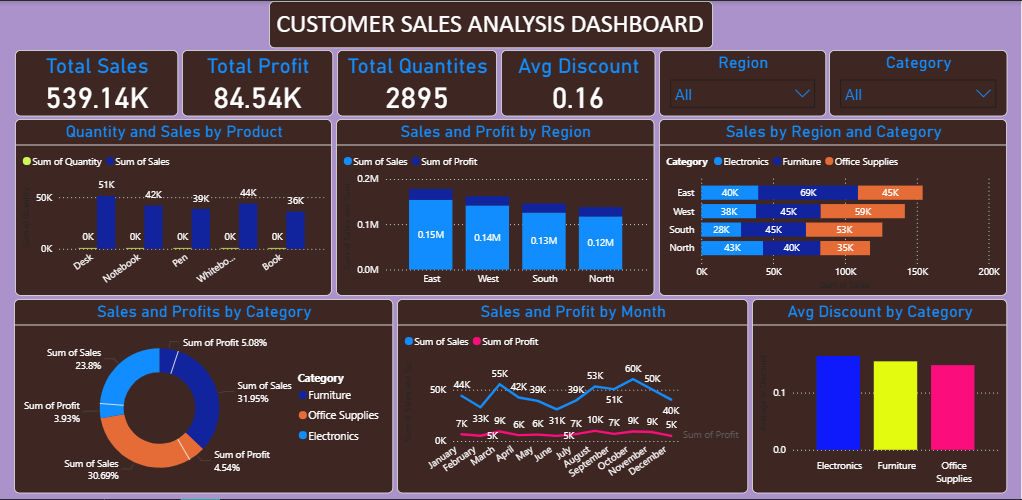

What the dashboard file says about the page in this screenshot:
{"tool":"powerbi","page":{"name":"Page 1","canvas":[1280,720],"ordinal":0},"visuals":[{"type":"card","title":"Avg Discount","fields":{"Values":["Avg(Clean_customer_sales_data.Discount)"]},"box":[630,63.8,192.5,82.5],"z":1},{"type":"card","title":"Total Sales","fields":{"Values":["Sum(Clean_customer_sales_data.Sales)"]},"box":[22.5,63.8,203.8,82.5],"z":2},{"type":"card","title":"Total Profit","fields":{"Values":["Sum(Clean_customer_sales_data.Profit)"]},"box":[231.2,63.8,188.8,82.5],"z":3},{"type":"card","title":"Total Quantites","fields":{"Values":["Sum(Clean_customer_sales_data.Quantity)"]},"box":[425,63.8,200,82.5],"z":4},{"type":"lineChart","title":"Sales and Profit by Month","fields":{"Category":["Clean_customer_sales_data.Date.Variation.Date Hierarchy.Month"],"Y":["Sum(Clean_customer_sales_data.Sales)","Sum(Clean_customer_sales_data.Profit)"]},"box":[500,375,438.8,242.5],"z":5},{"type":"columnChart","title":"Sales and Profit by Region","fields":{"Category":["Clean_customer_sales_data.Region"],"Y":["Sum(Clean_customer_sales_data.Sales)","Sum(Clean_customer_sales_data.Profit)"]},"box":[423.8,150,397.5,221.2],"z":6},{"type":"donutChart","title":"Sales and Profits by Category","fields":{"Category":["Clean_customer_sales_data.Category"],"Y":["Sum(Clean_customer_sales_data.Profit)","Sum(Clean_customer_sales_data.Sales)"]},"box":[21.2,375,473.8,242.5],"z":7},{"type":"clusteredColumnChart","title":"Quantity and Sales by Product","fields":{"Category":["Clean_customer_sales_data.Product"],"Y":["Sum(Clean_customer_sales_data.Quantity)","Sum(Clean_customer_sales_data.Sales)"]},"box":[22.5,150,396.2,221.2],"z":8},{"type":"lineClusteredColumnComboChart","title":"Avg Discount by Category","fields":{"Category":["Clean_customer_sales_data.Category"],"Y":["Avg(Clean_customer_sales_data.Discount)"]},"box":[943.8,375,318.8,242.5],"z":9},{"type":"barChart","title":"Sales by Region and Category","fields":{"Category":["Clean_customer_sales_data.Region"],"Series":["Clean_customer_sales_data.Category"],"Y":["Sum(Clean_customer_sales_data.Sales)"]},"box":[827.5,150,435,221.2],"z":10},{"type":"textbox","box":[340,2.5,555,58.8],"z":11},{"type":"slicer","title":"Region","fields":{"Values":["Clean_customer_sales_data.Region"]},"box":[827.5,63.8,208.8,82.5],"z":12},{"type":"slicer","title":"Category","fields":{"Values":["Clean_customer_sales_data.Category"]},"box":[1040,63.8,222.5,82.5],"z":13}]}

Visuals, with their boxes on the page's 1280x720 design canvas (x1, y1, x2, y2). These are canvas units, not pixel positions in the 1022x500 screenshot, which may show the page scaled, cropped or inside an application window:
"Avg Discount" card: region(630, 64, 822, 146)
"Total Sales" card: region(22, 64, 226, 146)
"Total Profit" card: region(231, 64, 420, 146)
"Total Quantites" card: region(425, 64, 625, 146)
"Sales and Profit by Month" lineChart: region(500, 375, 939, 618)
"Sales and Profit by Region" columnChart: region(424, 150, 821, 371)
"Sales and Profits by Category" donutChart: region(21, 375, 495, 618)
"Quantity and Sales by Product" clusteredColumnChart: region(22, 150, 419, 371)
"Avg Discount by Category" lineClusteredColumnComboChart: region(944, 375, 1263, 618)
"Sales by Region and Category" barChart: region(828, 150, 1262, 371)
textbox: region(340, 2, 895, 61)
"Region" slicer: region(828, 64, 1036, 146)
"Category" slicer: region(1040, 64, 1262, 146)
